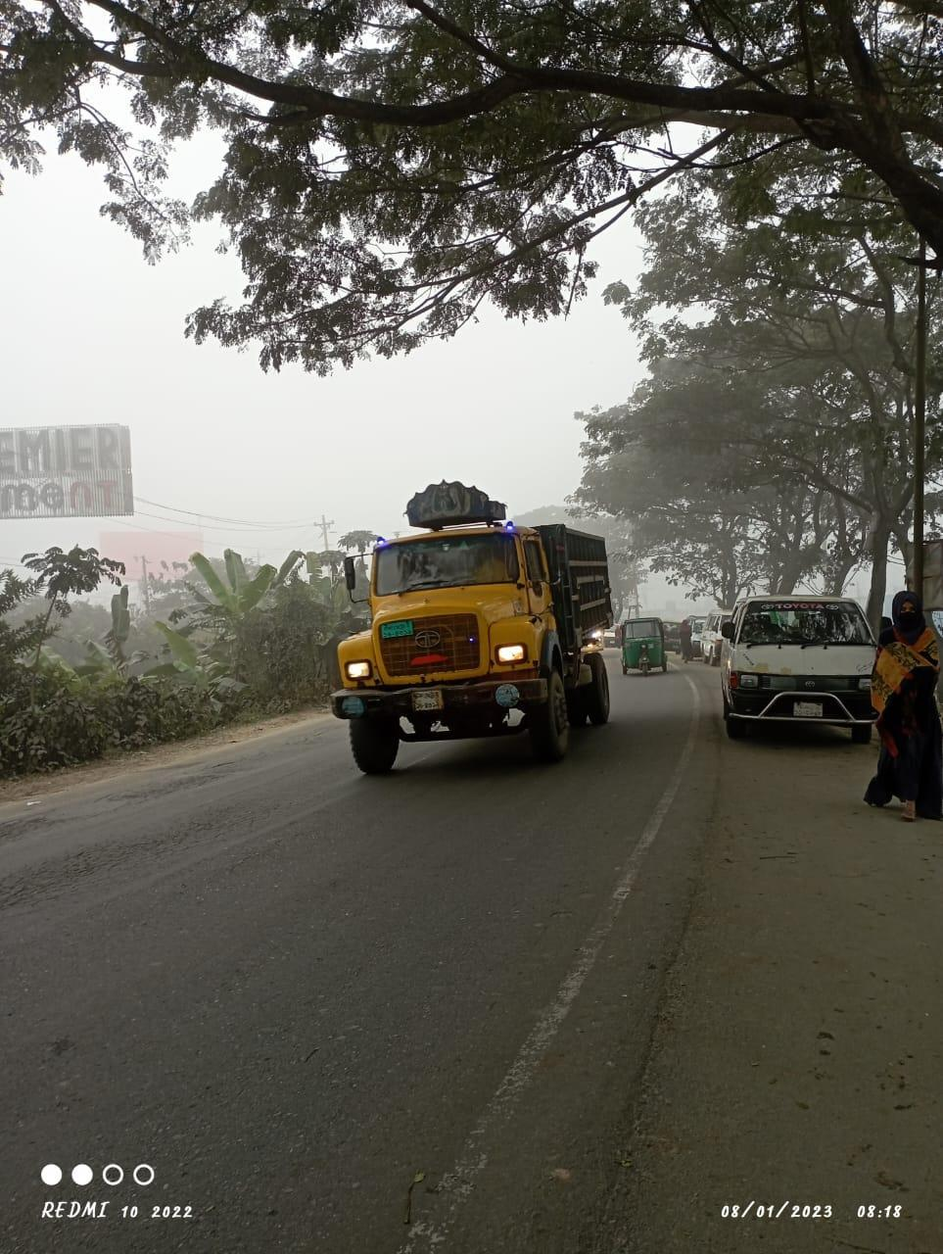Car: (713, 588, 891, 751)
Truck: (321, 479, 617, 751)
